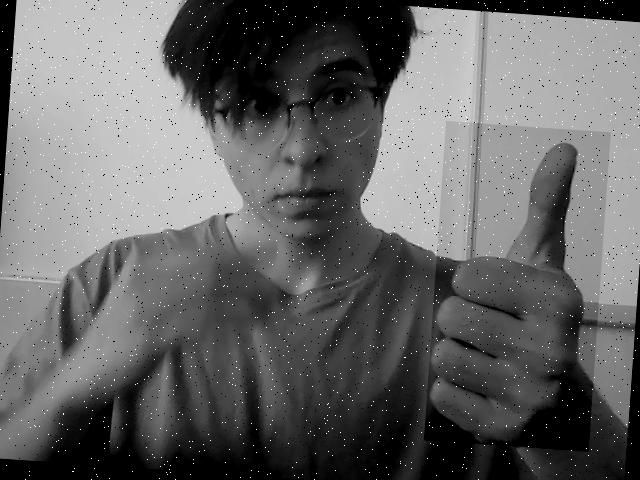good: (430, 130, 595, 447)
